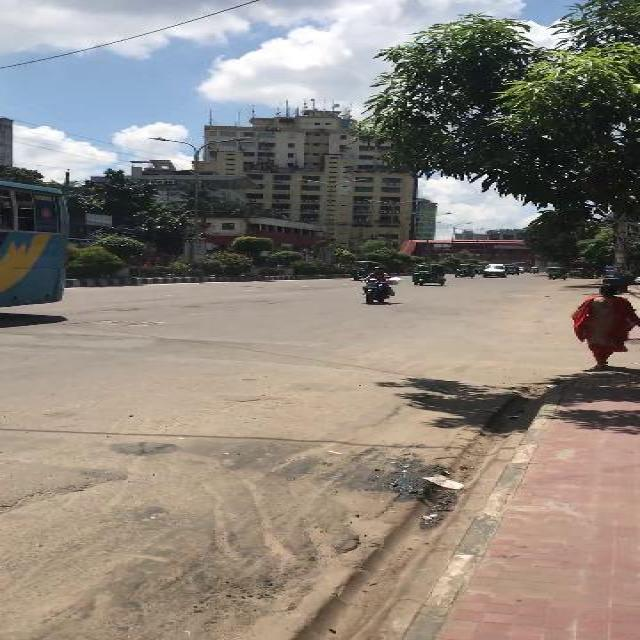bike: (357, 267, 403, 306)
vehicle: (1, 178, 69, 313), (413, 264, 447, 287), (350, 261, 382, 281), (480, 264, 507, 279), (454, 264, 476, 279), (548, 267, 567, 281), (508, 267, 518, 276)
